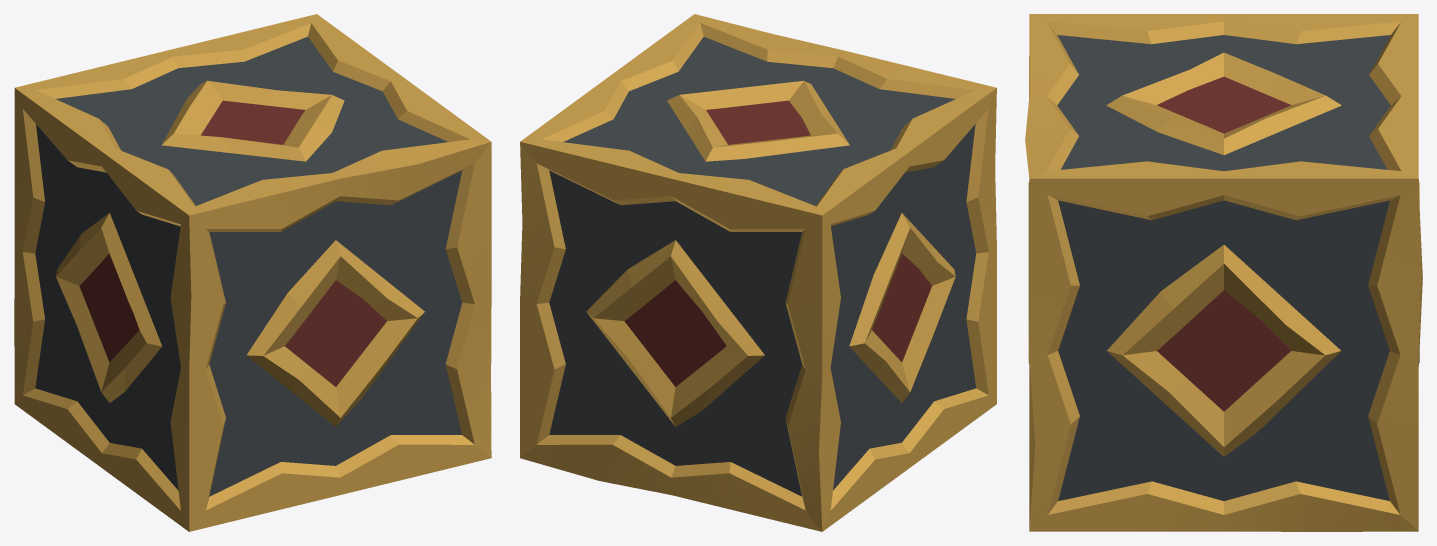
File: SM_Prop_Crate_Ornate_01.glb
The picture shows the model from 3 angles, left to right: view 1: azimuth 30°, elevation 25°; view 2: azimuth 150°, elevation 25°; view 3: azimuth 270°, elevation 25°; orthographic projection. The views are drawn at different scales.
Parts seen in each view (by area): view 1: SM_Prop_Crate_Ornate_01; view 2: SM_Prop_Crate_Ornate_01; view 3: SM_Prop_Crate_Ornate_01.
Boxes of the visible parts, x1,y1,x2,y2 form: SM_Prop_Crate_Ornate_01: [14, 14, 491, 531]; SM_Prop_Crate_Ornate_01: [520, 14, 996, 531]; SM_Prop_Crate_Ornate_01: [1025, 14, 1422, 531].
Bounding box in the file's own units: 0.0101 × 0.0102 × 0.0102.
Materials: 1 (1 with a texture image).
